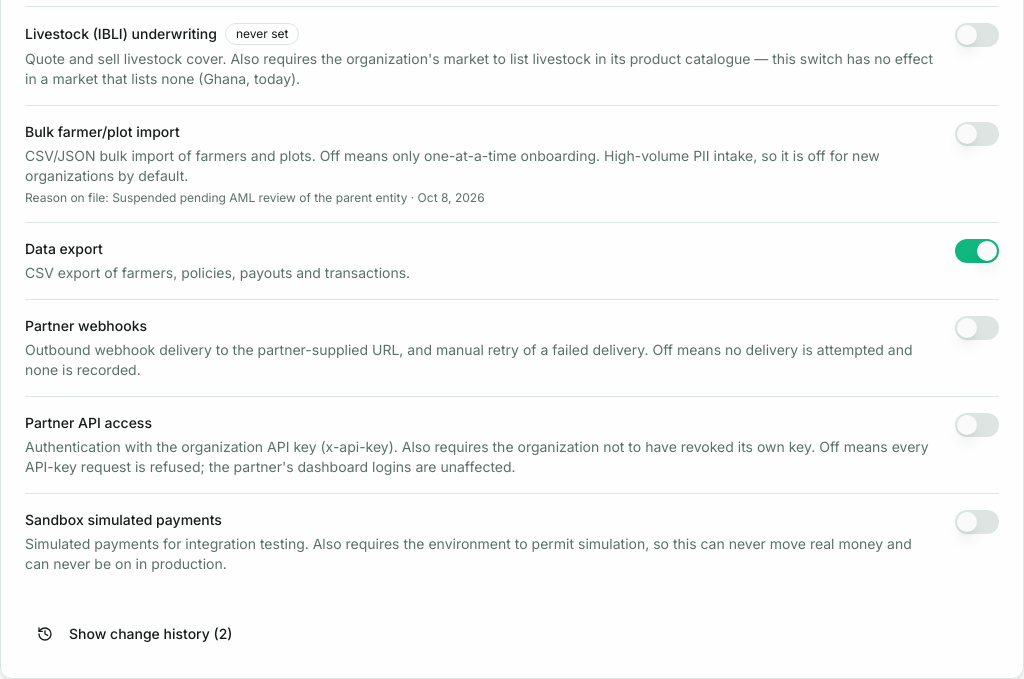
Test: the change history › is collapsed by default and expands on request
The width and height of the screenshot is (1024, 679).
(page scrolled)
Expected: the text "ticket #4412" is not shown
Click the button "Show change history (2)" at (135, 634), box [25,614,244,654]
(page scrolled)
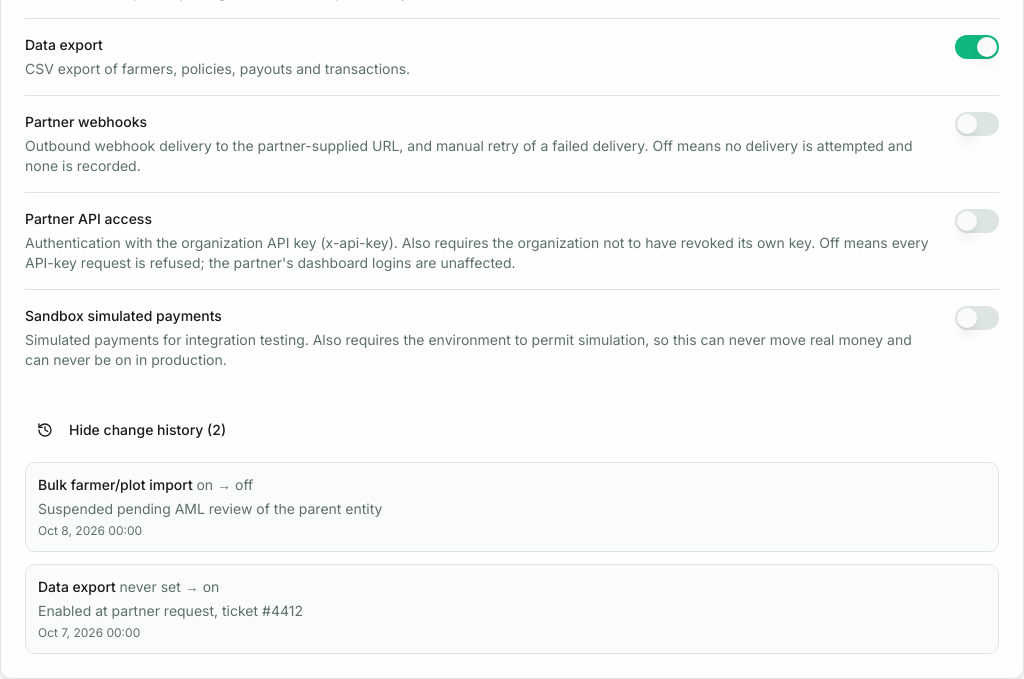
Expected: the text "Enabled at partner request, ticket #4412" is shown, [38,602,303,619]
